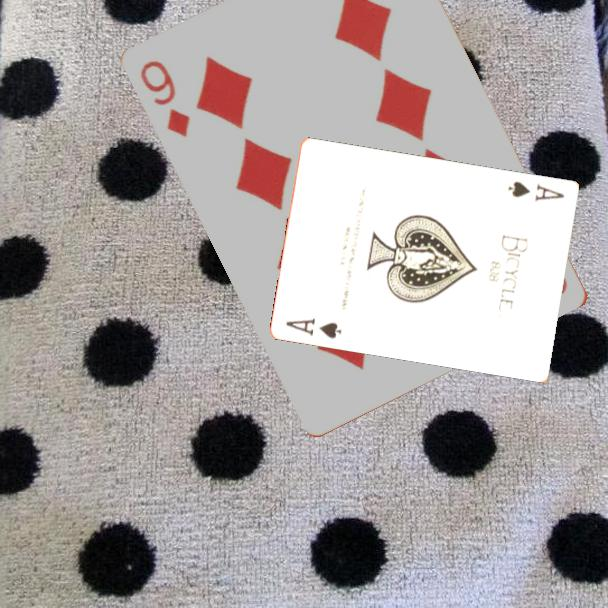d09: (137, 57, 194, 141)
s01: (505, 177, 568, 204), (283, 314, 345, 341)
